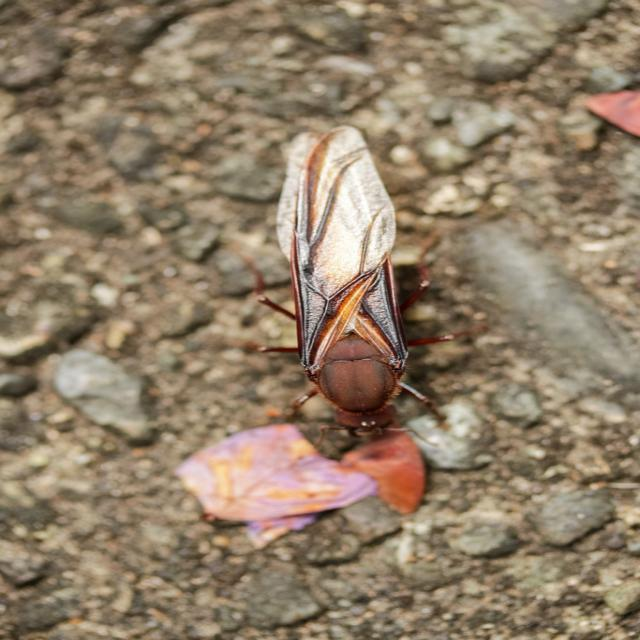Alive-Female-Alate: (235, 122, 470, 443)
